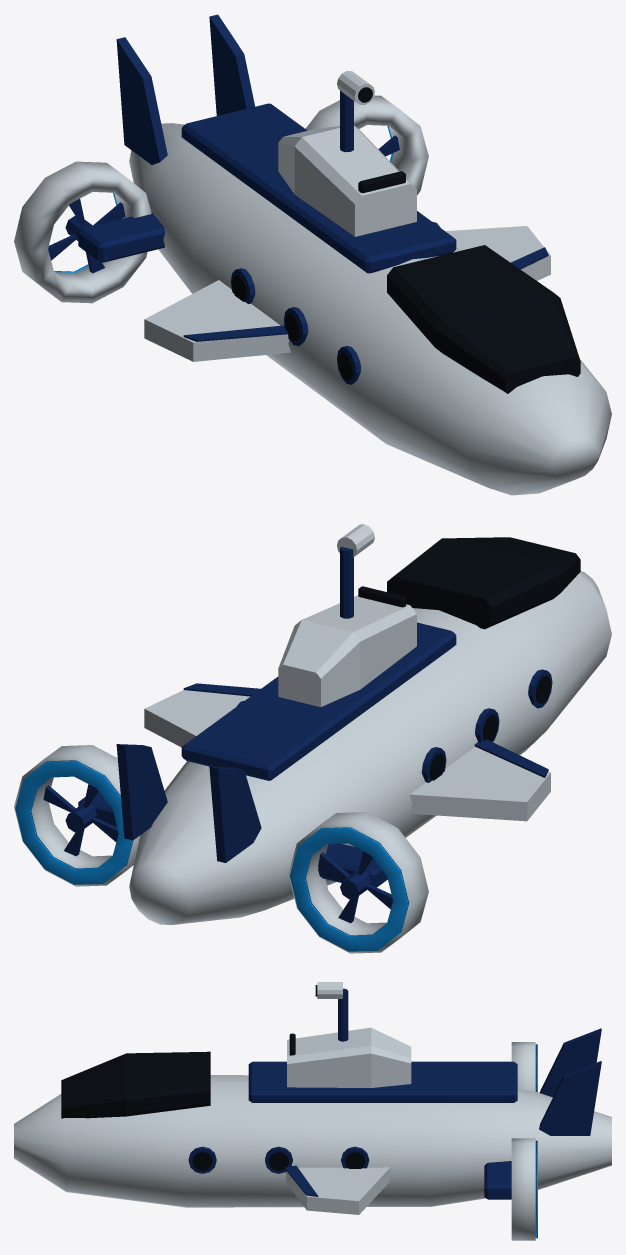
The model's file is astra_submarino.obj.
The picture shows the model from 3 angles, top to bottom: view 1: azimuth 30°, elevation 25°; view 2: azimuth 150°, elevation 25°; view 3: azimuth 270°, elevation 25°; orthographic projection. The views are drawn at different scales.
Visible parts, largest first — view 1: astra_submarino; view 2: astra_submarino; view 3: astra_submarino.
Part boxes in pixels (left/top/right/bottom): astra_submarino: left=14, top=14, right=611, bottom=495; astra_submarino: left=14, top=524, right=611, bottom=953; astra_submarino: left=14, top=982, right=611, bottom=1240.
Size of the model in its own units: 4.12 by 2.96 by 7.45.
